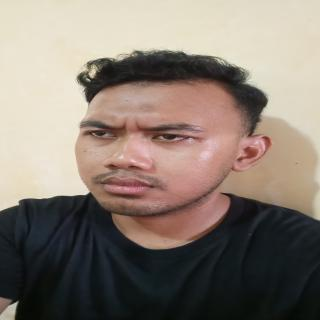Marah: (59, 75, 246, 218)
